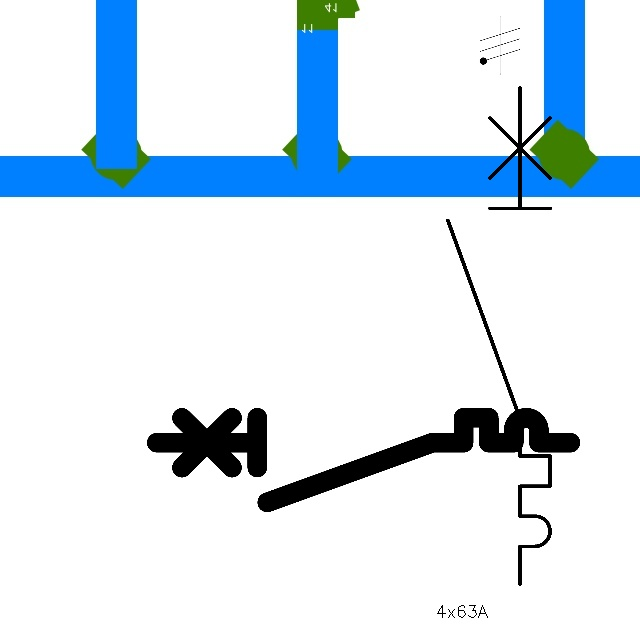interruptor_termomagnetico: (435, 75, 563, 597), (146, 407, 581, 513)
